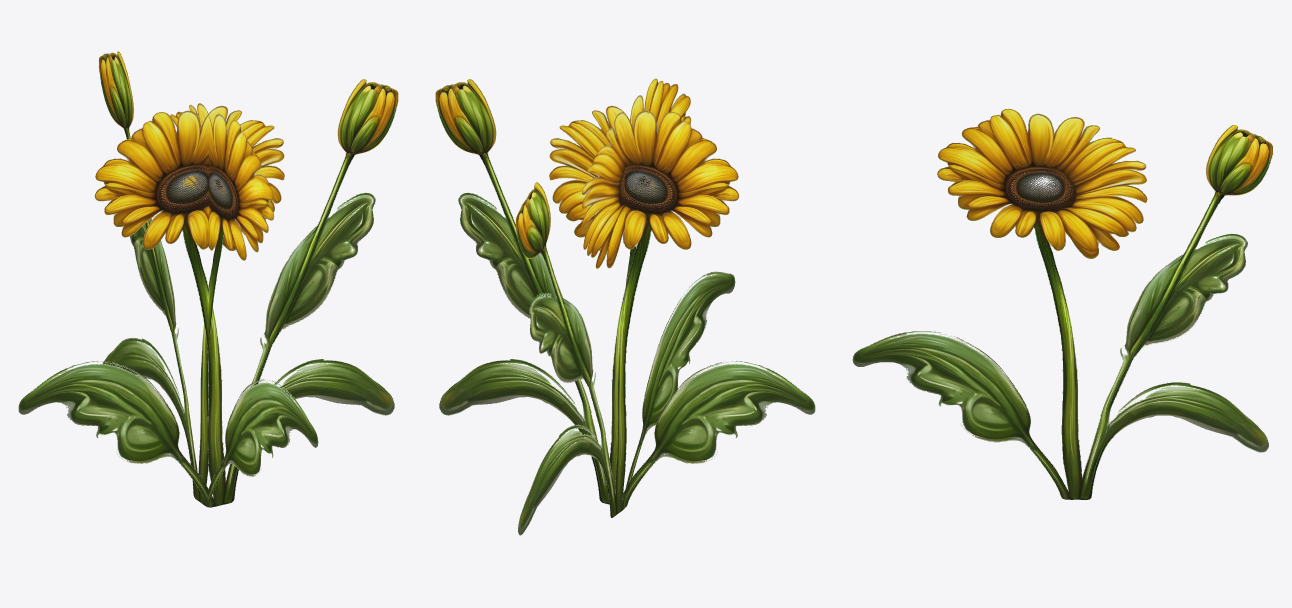
Rendered from flower_1.glb.
3 renders of one model, left to right at view 1: azimuth 30°, elevation 25°; view 2: azimuth 150°, elevation 25°; view 3: azimuth 270°, elevation 25°, orthographic. The views are drawn at different scales.
Visible parts, largest first — view 1: Leaves; view 2: Leaves; view 3: Leaves.
Boxes of the visible parts, bbox=[...] form: Leaves: bbox=[18, 51, 398, 507]; Leaves: bbox=[435, 78, 815, 535]; Leaves: bbox=[852, 108, 1273, 499].
Bounding box in the file's own units: 0.4881 × 0.5 × 0.4881.
Materials: 1 (1 with a texture image).
